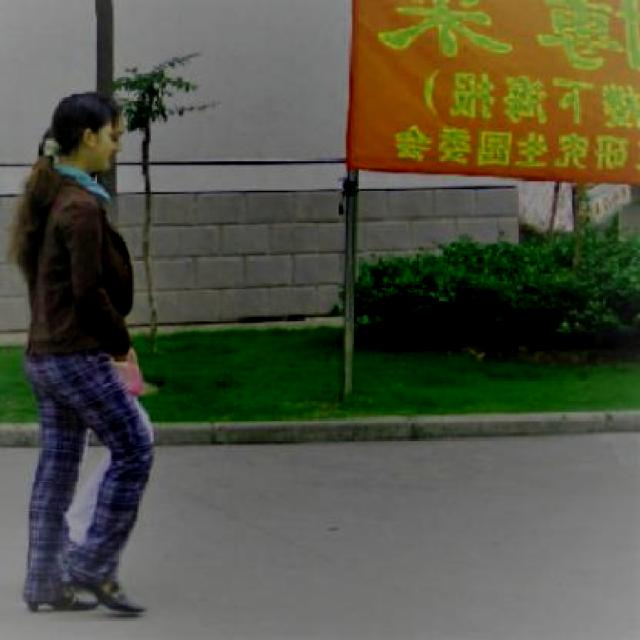Person: (8, 90, 148, 619)
